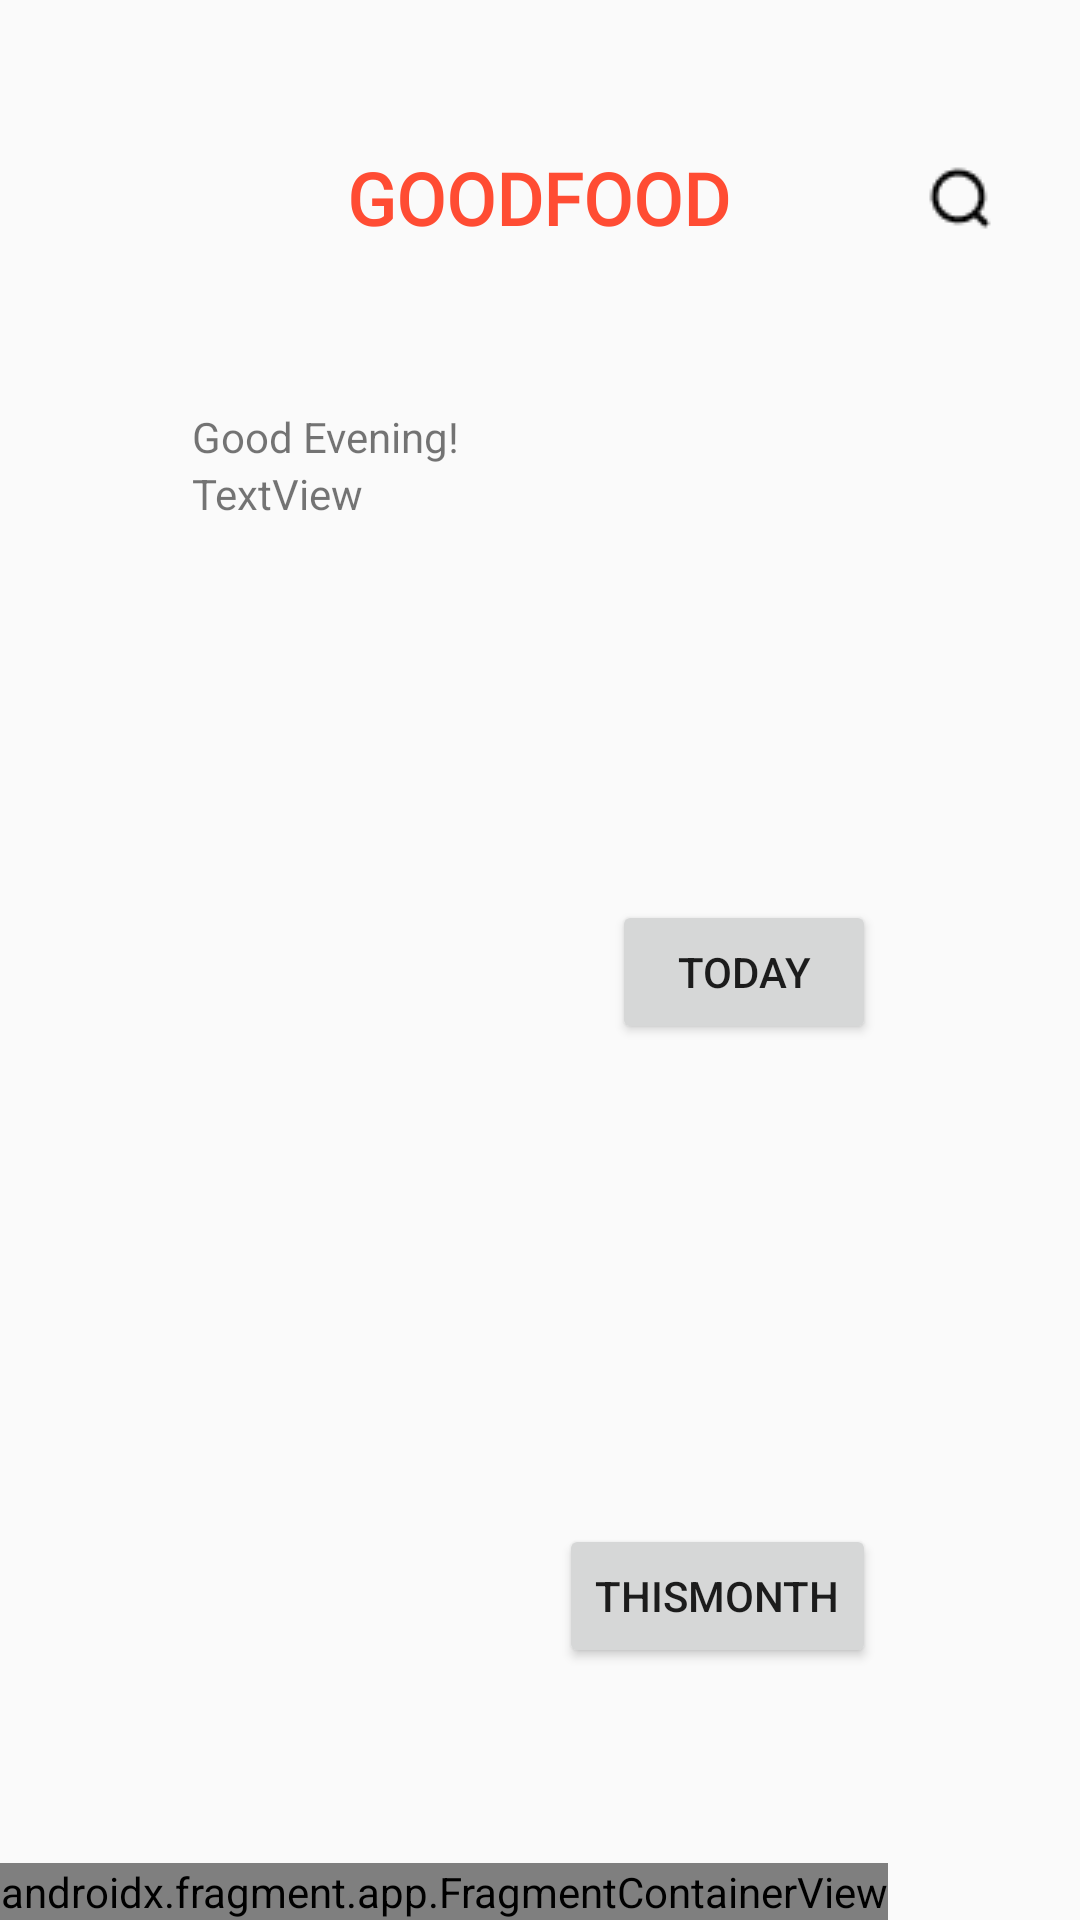

Named icons in this screenshot (1080*1920) and their centers, [x,y]:
Search: [960,198]
